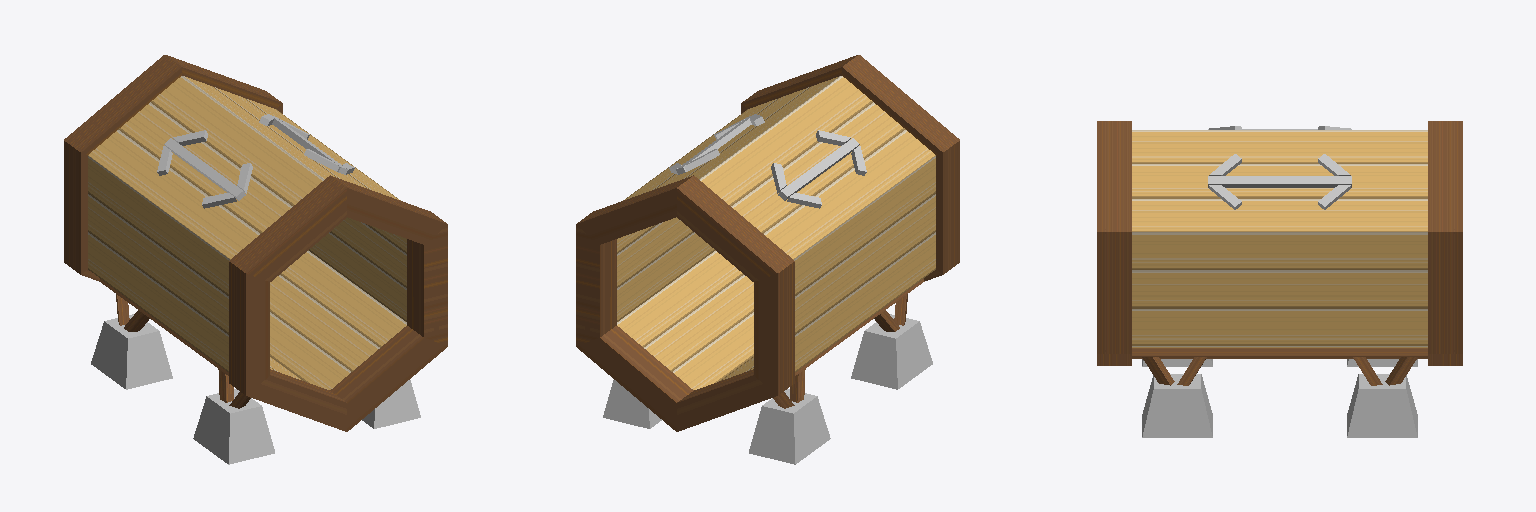
3 views of the same model, side by side, from view 1: azimuth 30°, elevation 25°; view 2: azimuth 150°, elevation 25°; view 3: azimuth 270°, elevation 25° (orthographic).
Visible parts, largest first — view 1: Band7.001_Circle.001, Cylinder.004_Cylinder.006, Cylinder.007_Cylinder.009, Cylinder.010_Cylinder.012, ConcreteSupport_Cube.006, Cylinder_Cylinder.003, Cube.001_Cube.008, Cylinder.003_Cylinder.005, SupportLeg2_Cylinder.001; view 2: Band7.001_Circle.001, Cylinder.004_Cylinder.006, Cylinder.007_Cylinder.009, Cylinder.010_Cylinder.012, ConcreteSupport_Cube.006, Cylinder_Cylinder.003, Cube.001_Cube.008, Cylinder.003_Cylinder.005, SupportLeg2_Cylinder.001; view 3: Cylinder.001_Cylinder.002, Cylinder.003_Cylinder.005, Band7.001_Circle.001, ConcreteSupport_Cube.006, Cube.001_Cube.008, Cube, SupportLeg_Cylinder, SupportLeg2_Cylinder.001, Cylinder.011_Cylinder.013.
Boxes of the visible parts, x1,y1,x2,y2 form: Band7.001_Circle.001: [64, 55, 447, 431]; Cylinder.004_Cylinder.006: [88, 76, 323, 259]; Cylinder.007_Cylinder.009: [88, 156, 229, 371]; Cylinder.010_Cylinder.012: [270, 250, 406, 389]; ConcreteSupport_Cube.006: [91, 314, 420, 464]; Cylinder_Cylinder.003: [309, 217, 406, 321]; Cube.001_Cube.008: [157, 114, 354, 208]; Cylinder.003_Cylinder.005: [184, 76, 400, 200]; SupportLeg2_Cylinder.001: [124, 310, 233, 402]; Band7.001_Circle.001: [576, 55, 959, 431]; Cylinder.004_Cylinder.006: [700, 76, 935, 259]; Cylinder.007_Cylinder.009: [794, 156, 935, 371]; Cylinder.010_Cylinder.012: [617, 250, 753, 389]; ConcreteSupport_Cube.006: [603, 314, 932, 464]; Cylinder_Cylinder.003: [617, 217, 714, 321]; Cube.001_Cube.008: [669, 114, 866, 208]; Cylinder.003_Cylinder.005: [623, 76, 839, 200]; SupportLeg2_Cylinder.001: [790, 310, 899, 402]; Cylinder.001_Cylinder.002: [1132, 232, 1427, 345]; Cylinder.003_Cylinder.005: [1132, 130, 1427, 231]; Band7.001_Circle.001: [1097, 121, 1462, 365]; ConcreteSupport_Cube.006: [1142, 359, 1417, 437]; Cube.001_Cube.008: [1208, 126, 1351, 209]; Cube: [1132, 348, 1427, 358]; SupportLeg_Cylinder: [1142, 357, 1417, 385]; SupportLeg2_Cylinder.001: [1177, 357, 1382, 385]; Cylinder.011_Cylinder.013: [1132, 346, 1427, 347].
Size of the model in its own units: 2.33 by 2.97 by 3.64.
4 materials, 2 textured.